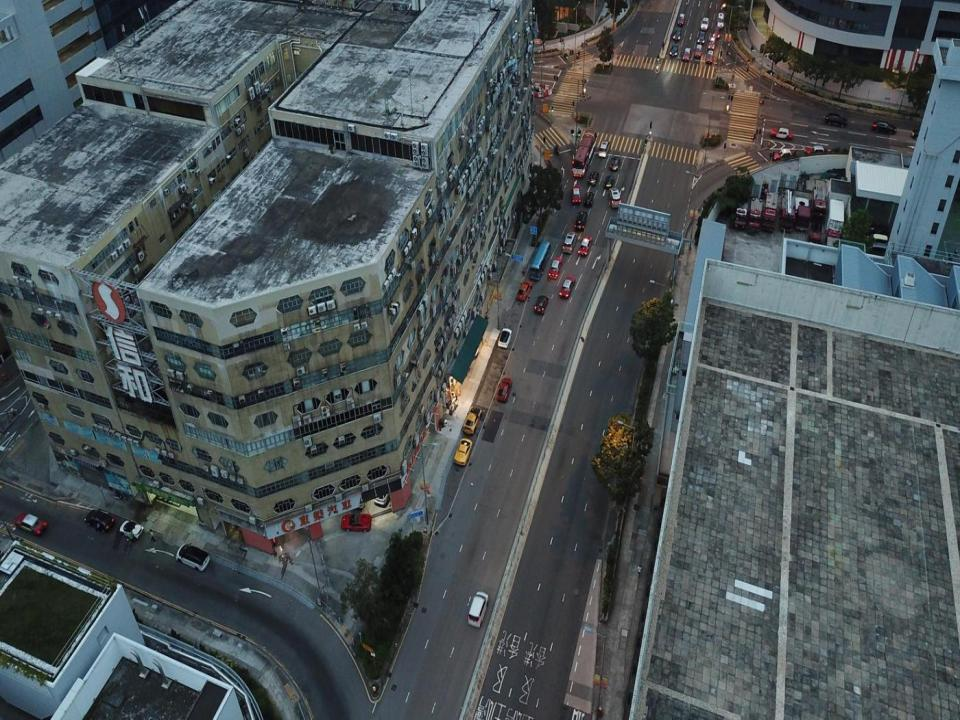bus: (570, 128, 596, 175), (529, 240, 550, 284)
car: (175, 544, 211, 573), (13, 512, 48, 536), (468, 590, 488, 630), (86, 509, 116, 534), (340, 512, 372, 534), (118, 519, 145, 542), (461, 408, 483, 434), (494, 376, 513, 404), (454, 438, 472, 466), (823, 111, 851, 129), (871, 117, 897, 136), (802, 143, 830, 159), (769, 124, 795, 141), (562, 229, 577, 258), (559, 274, 575, 301), (772, 145, 794, 164), (516, 280, 532, 305), (577, 234, 594, 257), (534, 294, 549, 315), (575, 210, 589, 231), (550, 256, 562, 280), (570, 184, 583, 206), (498, 327, 511, 348), (608, 188, 622, 207), (584, 190, 595, 211), (597, 141, 609, 160), (588, 171, 600, 189), (610, 154, 621, 172), (669, 40, 678, 62), (673, 26, 684, 44), (708, 34, 722, 47), (696, 42, 705, 62), (675, 14, 687, 29), (720, 10, 727, 35), (604, 176, 614, 193), (700, 17, 711, 31), (707, 48, 714, 65), (682, 48, 688, 65)
truck: (762, 190, 778, 234), (780, 188, 796, 228), (811, 179, 825, 224), (732, 197, 749, 232), (750, 192, 763, 233), (797, 188, 810, 227)
